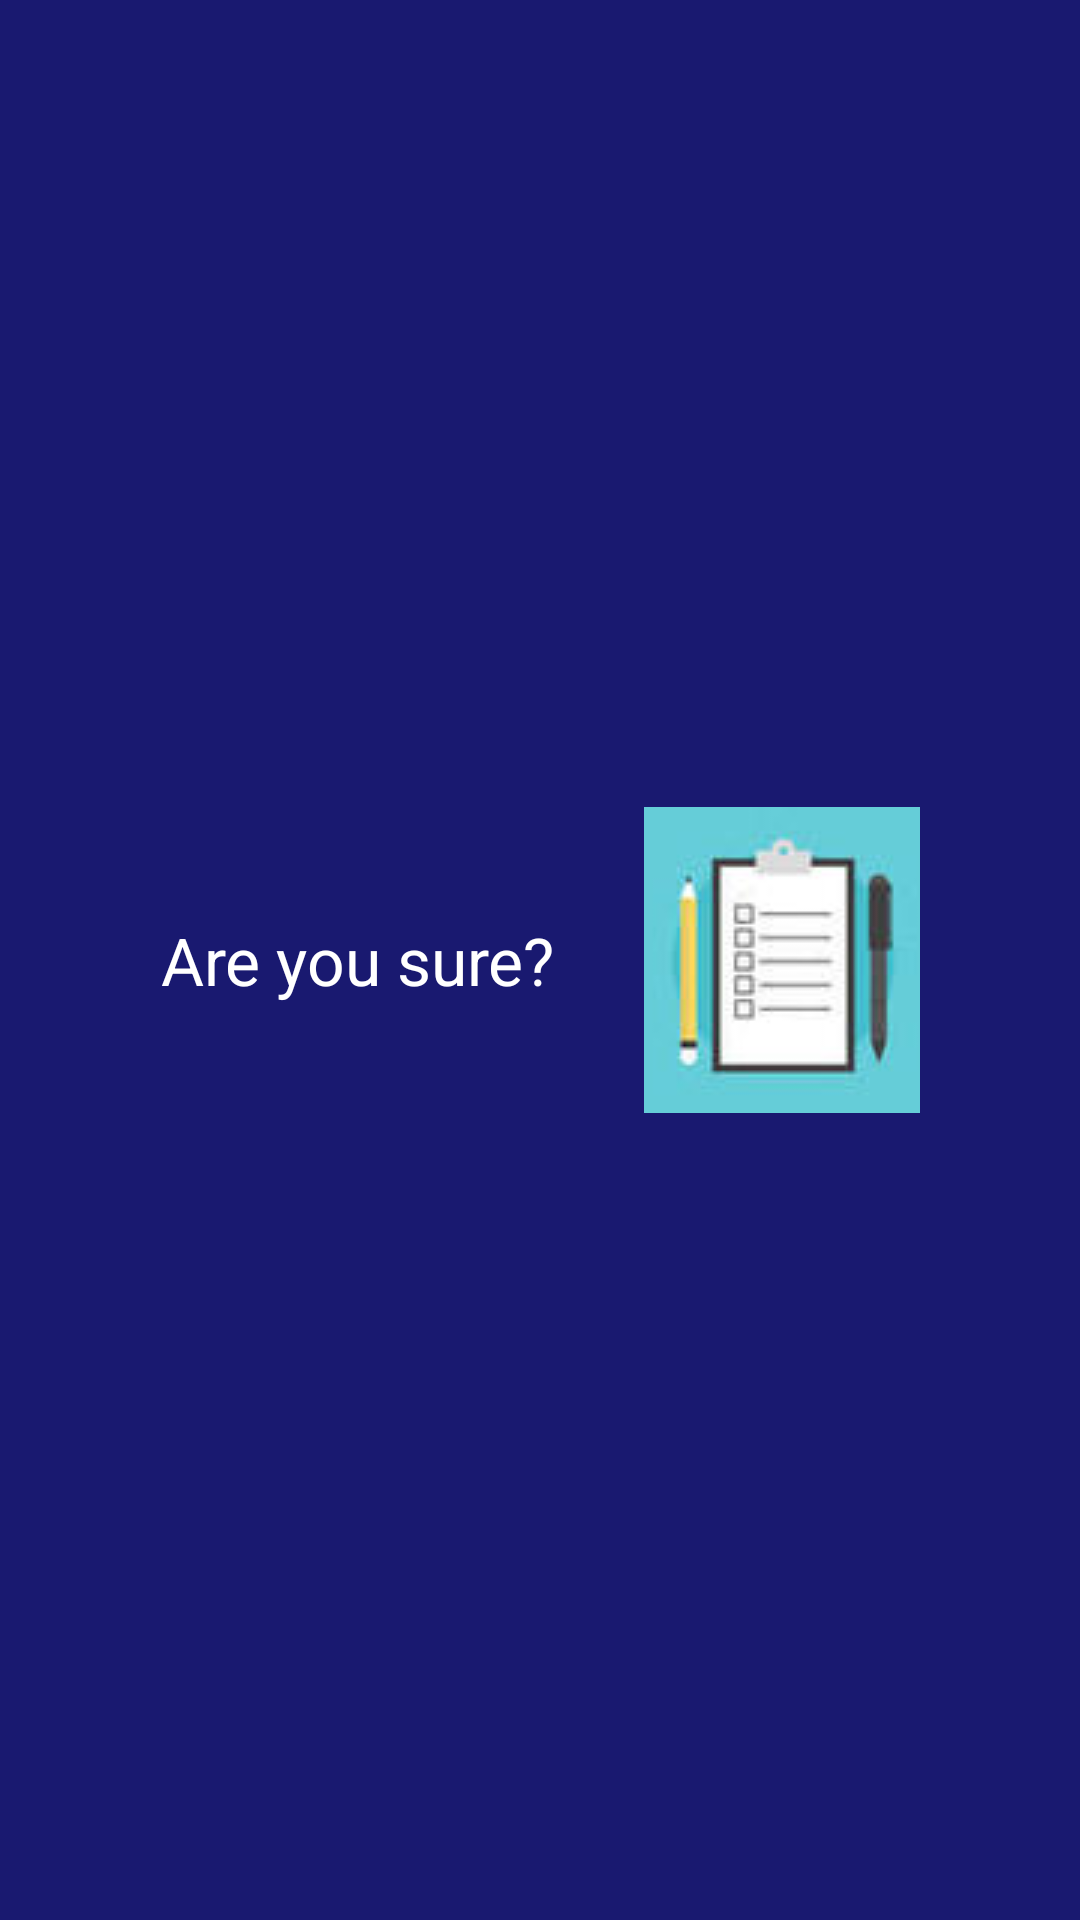

Named icons in this screenshot (1080×1920) and their centers, point (x, y):
todo: point (782, 960)
